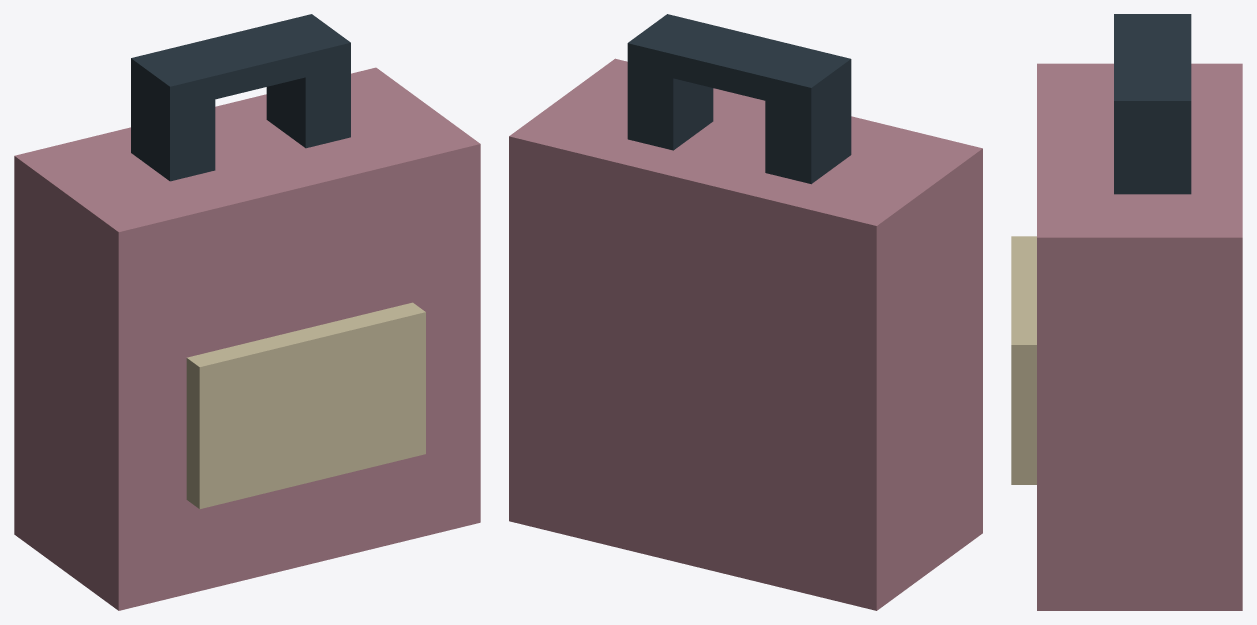
Rendered from fashion-10.glb.
The picture shows the model from 3 angles, left to right: view 1: azimuth 30°, elevation 25°; view 2: azimuth 150°, elevation 25°; view 3: azimuth 270°, elevation 25°; orthographic projection. The views are drawn at different scales.
Visible parts, largest first — view 1: Handbag; view 2: Handbag; view 3: Handbag.
Part boxes in pixels (box(x1,y1,x2,y2)): Handbag: box(14, 14, 480, 610); Handbag: box(509, 14, 982, 610); Handbag: box(1011, 14, 1242, 610).
Bounding box in the file's own units: 1.28 × 1.6 × 0.72.
